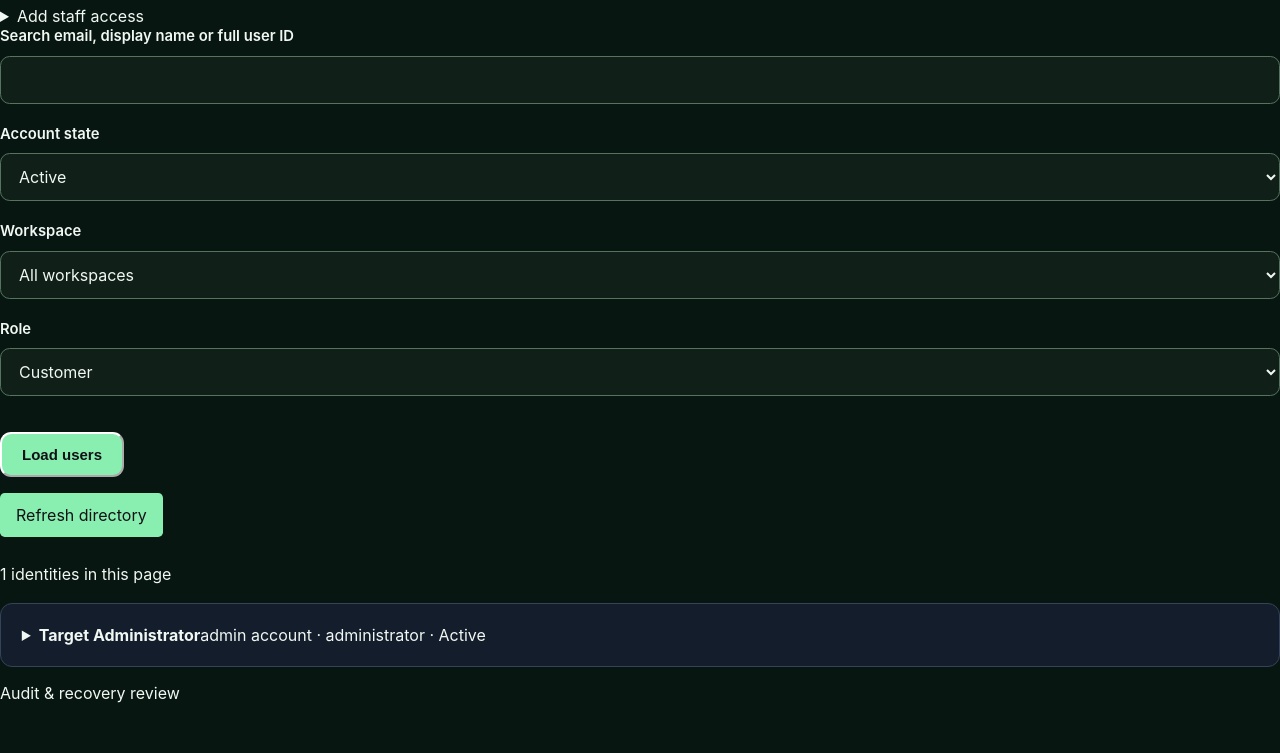
Test: keeps failed actions in their form without announcing completion or refreshing authority
Click the heading "Target Administrator" at (262, 635), box left=39, top=625, right=486, bottom=645
(page scrolled)
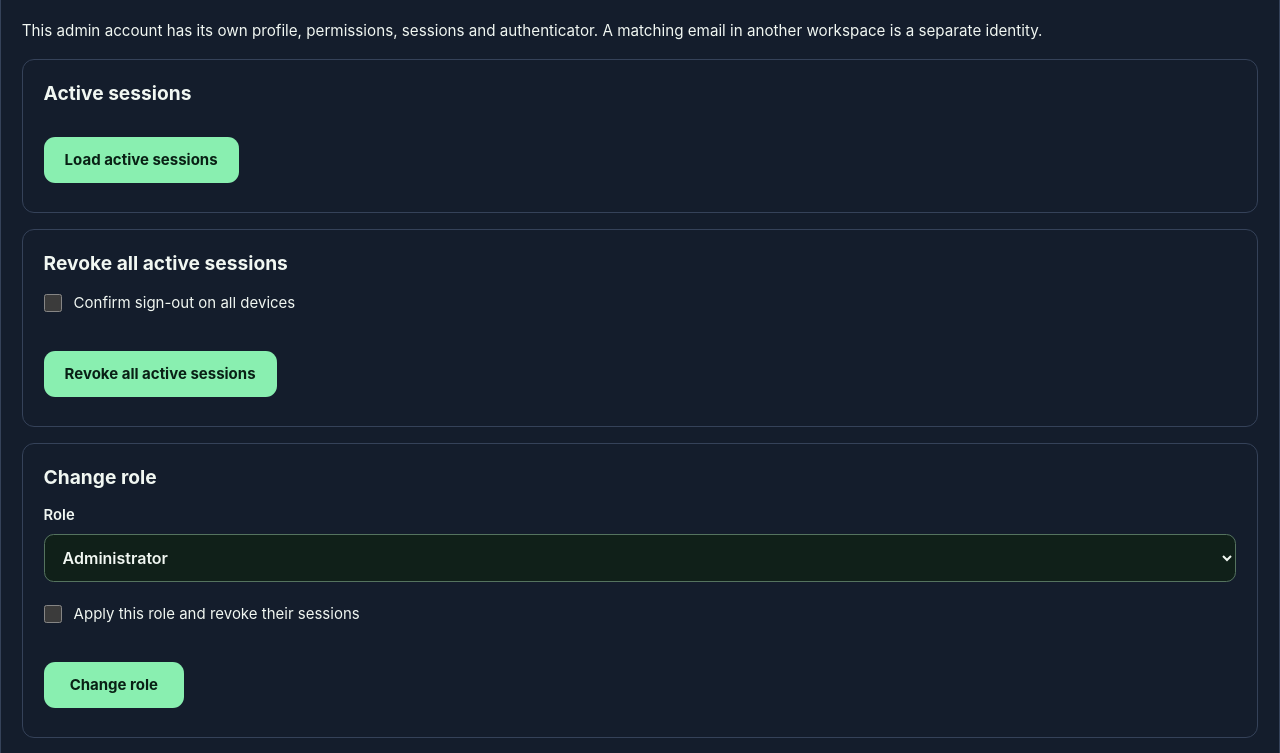
Click the checkbox labelled "Confirm sign-out on all devices" at (53, 303), box left=44, top=294, right=62, bottom=312
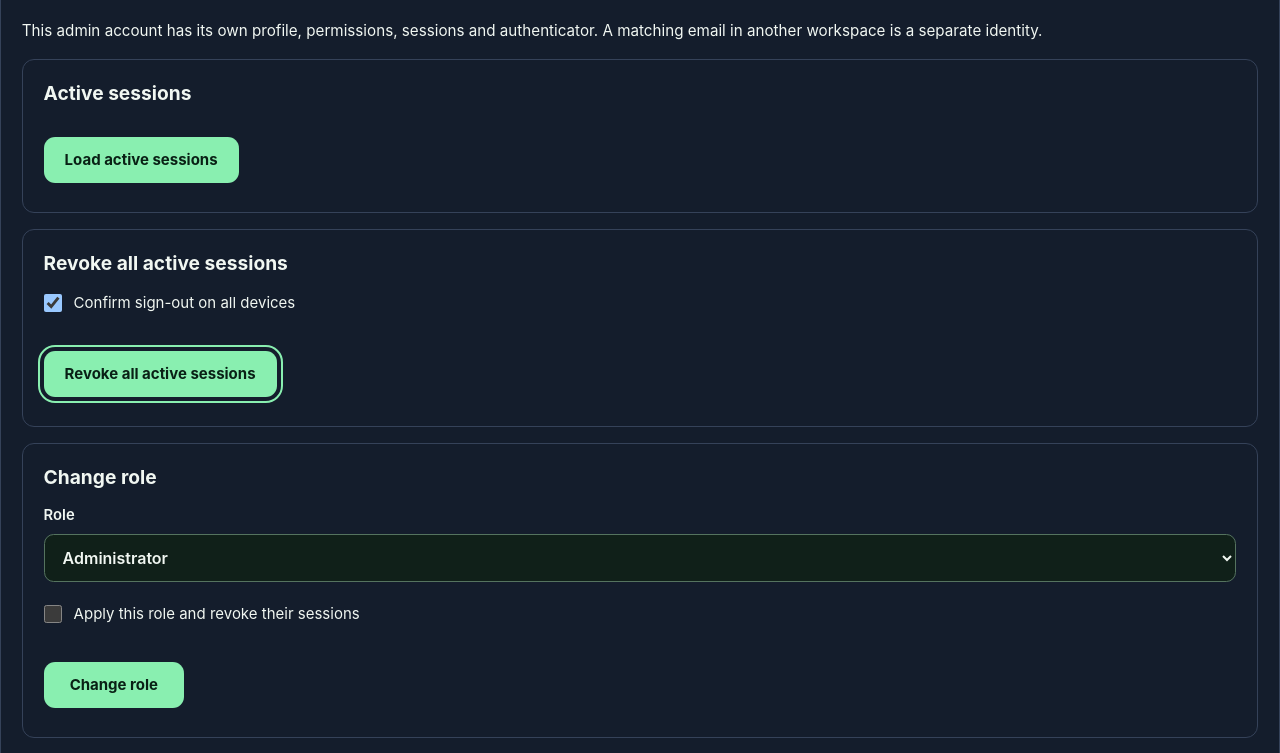
Submit the form "Revoke all active sessions", box left=22, top=229, right=1258, bottom=427
(page scrolled)
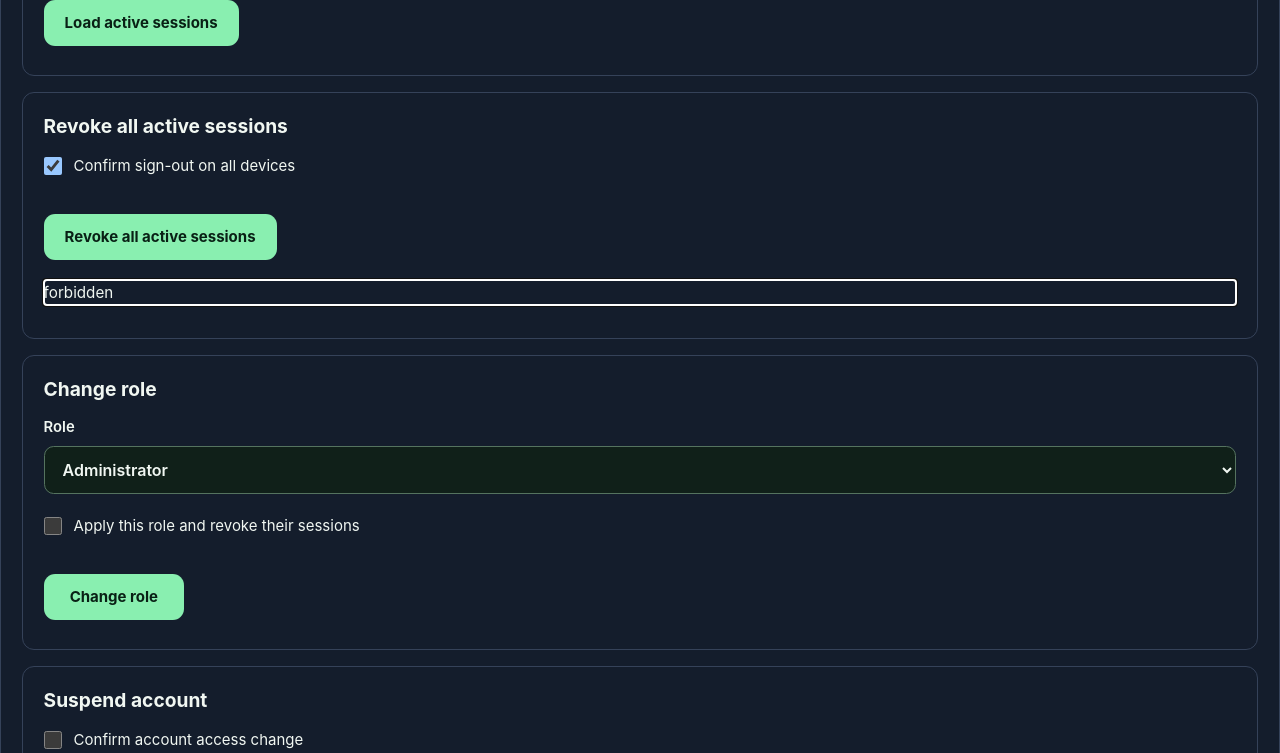
Now the text "forbidden" is shown, box left=44, top=283, right=113, bottom=302
